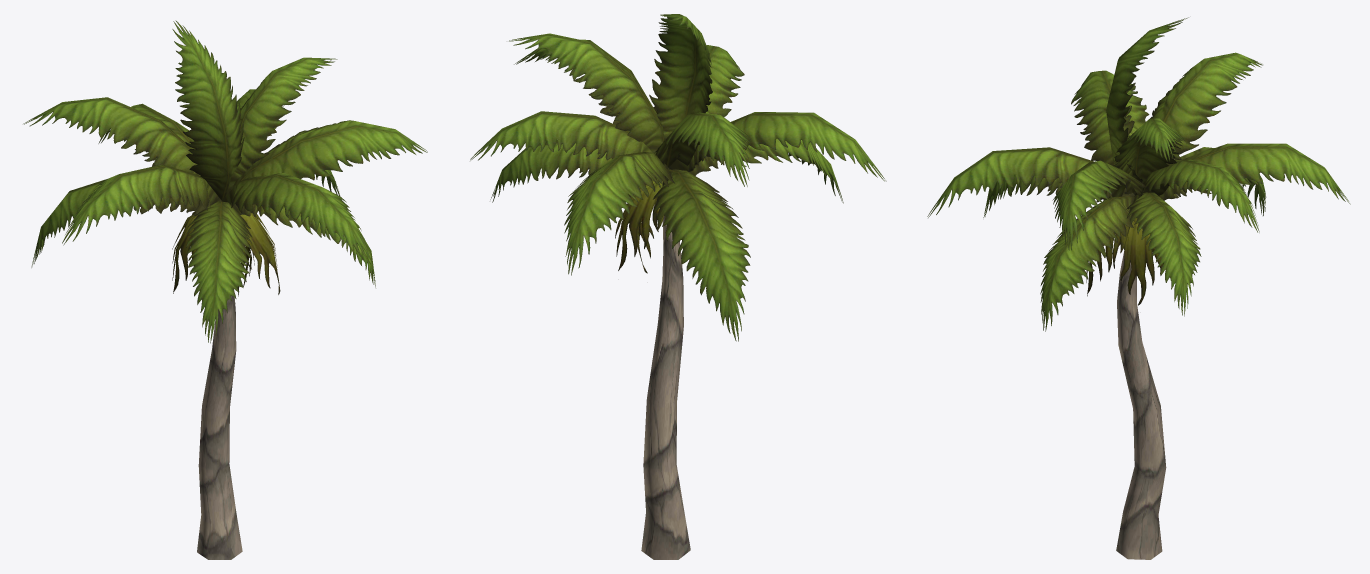
The model's file is PalmTree.FBX.
3 renders of one model, left to right at view 1: azimuth 30°, elevation 25°; view 2: azimuth 150°, elevation 25°; view 3: azimuth 270°, elevation 25°, orthographic. The views are drawn at different scales.
Parts seen in each view (by area): view 1: PalmTree; view 2: PalmTree; view 3: PalmTree.
Part boxes in pixels (bbox=[...]): PalmTree: bbox=[23, 20, 427, 559]; PalmTree: bbox=[470, 14, 886, 559]; PalmTree: bbox=[927, 17, 1350, 559].
Size of the model in its own units: 55.47 by 75.33 by 56.27.
